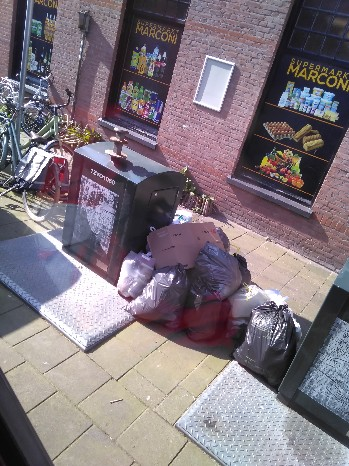Container: (63, 138, 131, 281), (304, 280, 349, 426)
Papier: (157, 225, 237, 269)
Rest: (229, 242, 277, 337), (180, 254, 226, 352), (244, 298, 289, 387), (143, 258, 185, 343), (103, 253, 158, 305)
